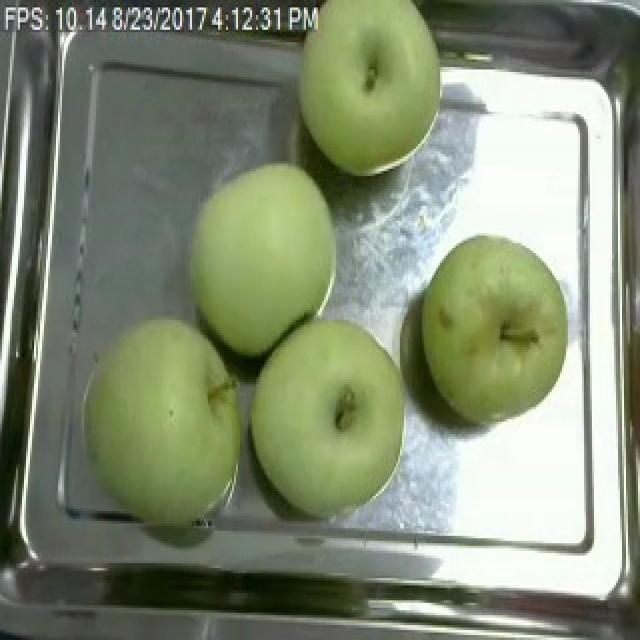apple: (84, 319, 239, 528), (252, 320, 403, 516), (189, 165, 335, 355), (421, 235, 566, 425), (299, 0, 440, 174)
